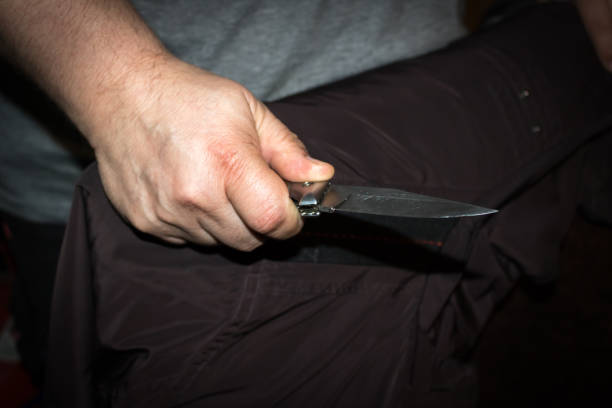knife: (286, 174, 500, 222)
